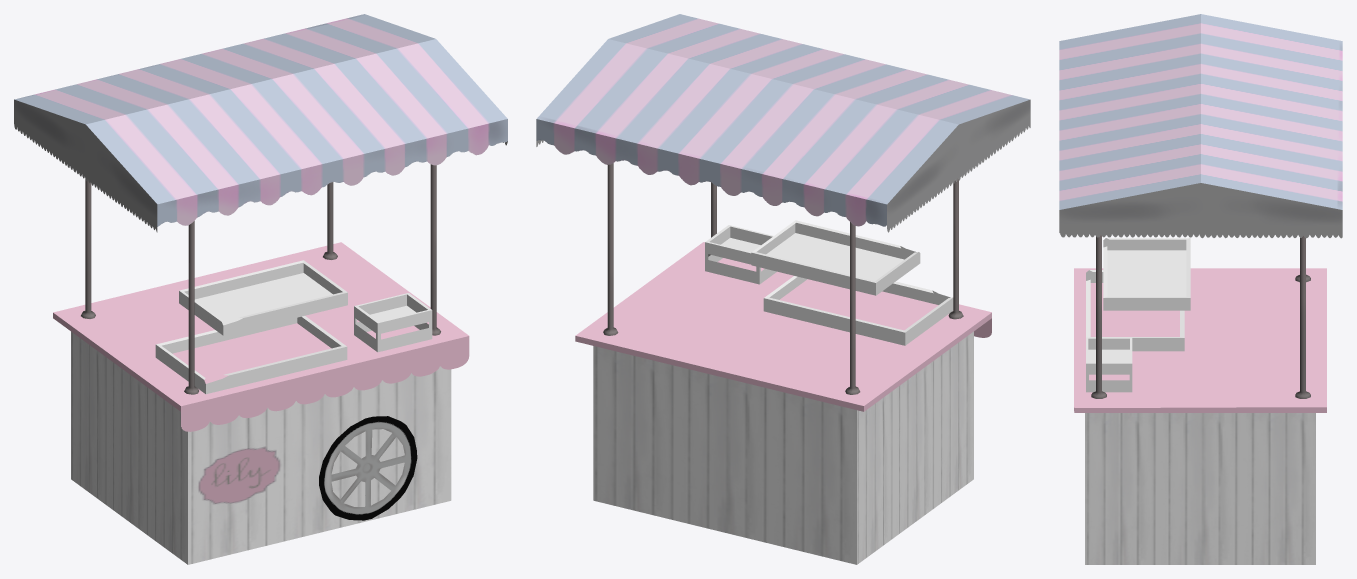
File: trolley.fbx
3 renders of one model, left to right at view 1: azimuth 30°, elevation 25°; view 2: azimuth 150°, elevation 25°; view 3: azimuth 270°, elevation 25°, orthographic.
Visible parts, largest first — view 1: Store02; view 2: Store02; view 3: Store02.
Boxes of the visible parts, x1=… form: Store02: x1=14, y1=14, x2=507, y2=564; Store02: x1=536, y1=14, x2=1030, y2=564; Store02: x1=1059, y1=14, x2=1342, y2=564.
Bounding box in the file's own units: 406 × 452 × 288.
Materials: 1 (1 with a texture image).
